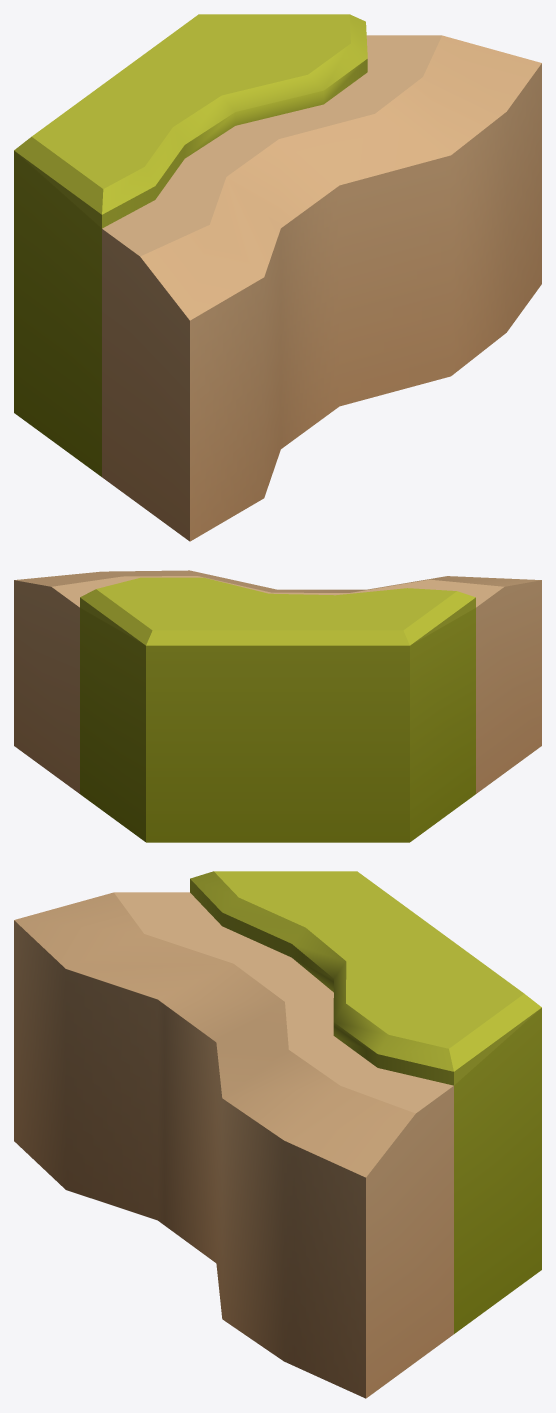
Rendered from hex_coast_C_waterless.glb.
3 renders of one model, top to bottom at view 1: azimuth 30°, elevation 25°; view 2: azimuth 150°, elevation 25°; view 3: azimuth 270°, elevation 25°, orthographic. The views are drawn at different scales.
Parts seen in each view (by area): view 1: hex_coast_C_waterless; view 2: hex_coast_C_waterless; view 3: hex_coast_C_waterless.
Boxes of the visible parts, bbox=[...] form: hex_coast_C_waterless: bbox=[14, 14, 541, 541]; hex_coast_C_waterless: bbox=[14, 570, 541, 842]; hex_coast_C_waterless: bbox=[14, 871, 541, 1398].
Size of the model in its own units: 2 by 1 by 1.73.
1 material, 1 textured.
